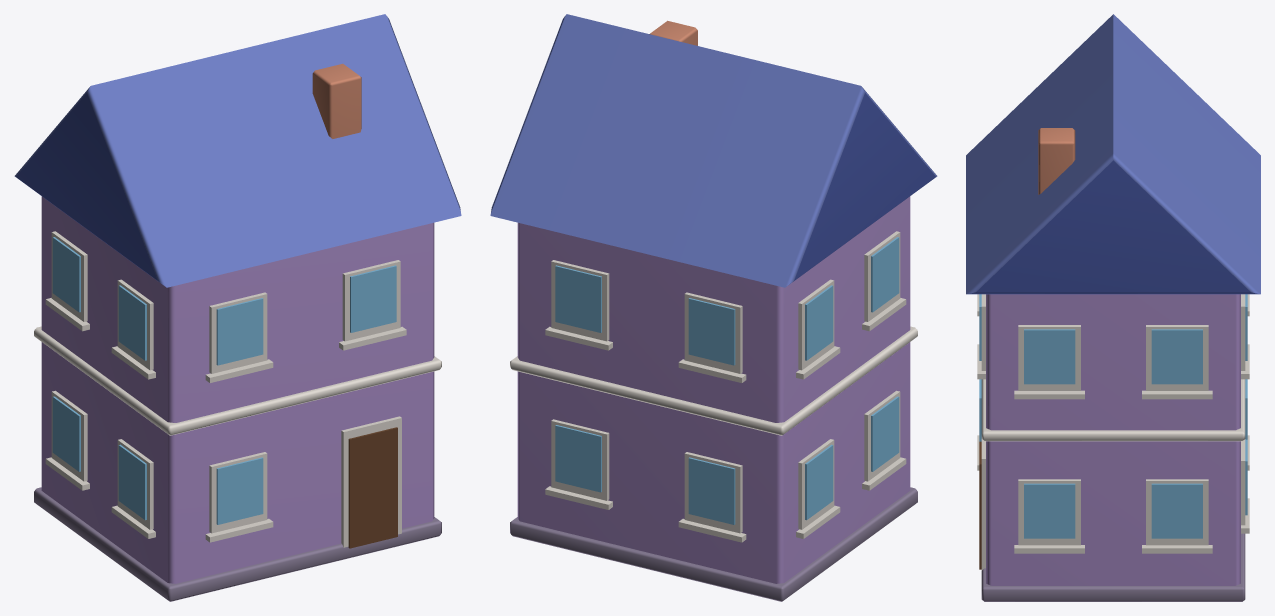
Rendered from block-deco2.glb.
3 renders of one model, left to right at view 1: azimuth 30°, elevation 25°; view 2: azimuth 150°, elevation 25°; view 3: azimuth 270°, elevation 25°, orthographic. The views are drawn at different scales.
Visible parts, largest first — view 1: block-deco2; view 2: block-deco2; view 3: block-deco2.
Part boxes in pixels (left/top/right/bottom): block-deco2: left=14, top=14, right=461, bottom=601; block-deco2: left=490, top=14, right=937, bottom=601; block-deco2: left=966, top=14, right=1260, bottom=601.
Bounding box in the file's own units: 2.38 × 3.54 × 2.08.
